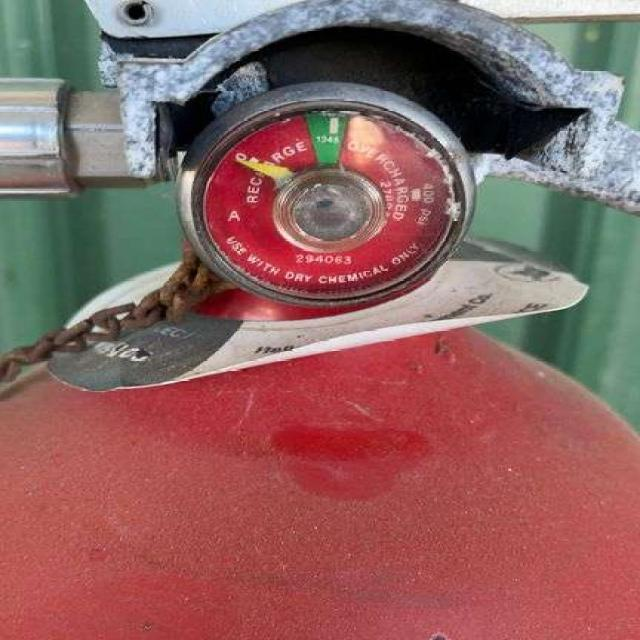pressure gauge: (179, 83, 474, 306)
